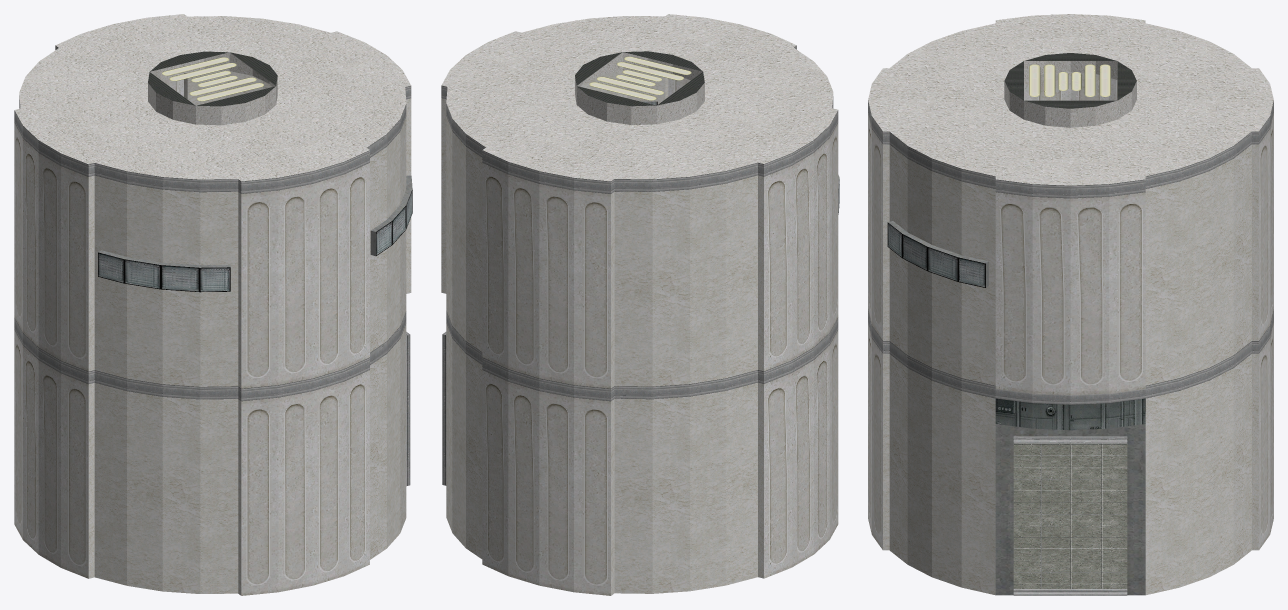
File: ply_all_house_lg_s02_fp1_r6_room4_mesh_r6.fbx
The picture shows the model from 3 angles, left to right: view 1: azimuth 30°, elevation 25°; view 2: azimuth 150°, elevation 25°; view 3: azimuth 270°, elevation 25°; orthographic projection.
Visible parts, largest first — view 1: mesh_node; view 2: mesh_node; view 3: mesh_node.
Boxes of the visible parts, x1=… form: mesh_node: x1=14, y1=14, x2=412, y2=595; mesh_node: x1=441, y1=14, x2=839, y2=595; mesh_node: x1=868, y1=14, x2=1273, y2=595.
Size of the model in its own units: 7.25 by 8.63 by 7.24.
